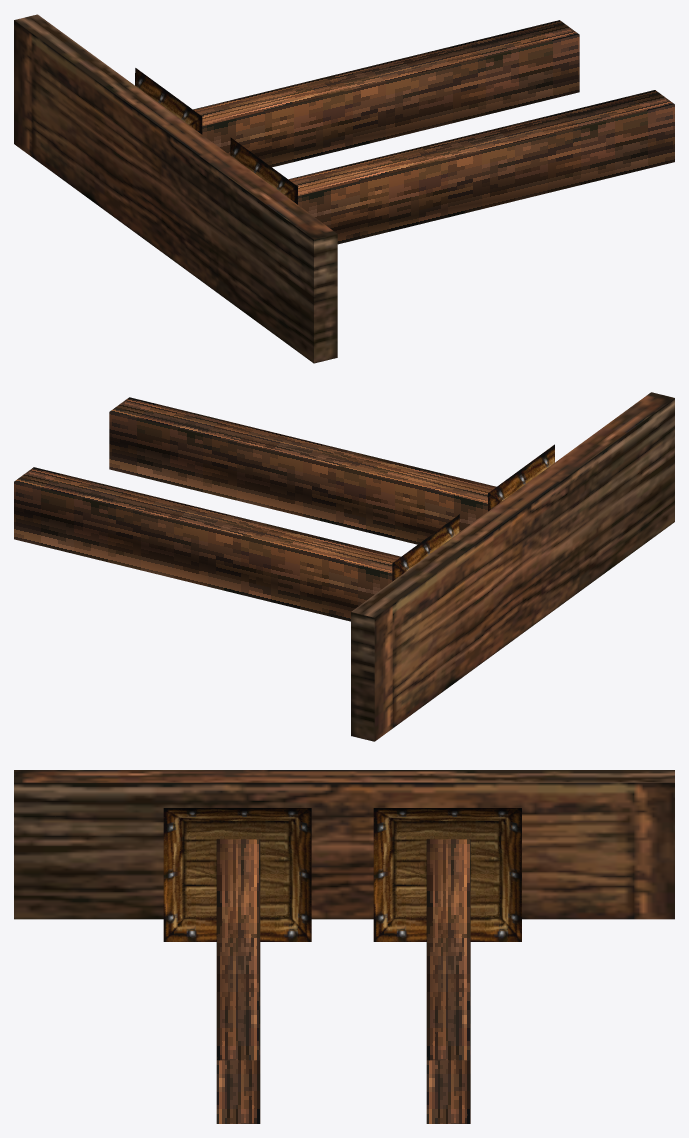
The model's file is INST_WH_PUSHPLATFORM_01.obj.
The picture shows the model from 3 angles, top to bottom: view 1: azimuth 30°, elevation 25°; view 2: azimuth 150°, elevation 25°; view 3: azimuth 270°, elevation 25°; orthographic projection. The views are drawn at different scales.
Parts seen in each view (by area): view 1: _WoodPlank47474, H3_Ports0537376; view 2: _WoodPlank47474, H3_Ports0537376; view 3: _WoodPlank47474, H3_Ports0537376.
Boxes of the visible parts, x1,y1,x2,y2 form: _WoodPlank47474: (14, 14, 674, 363); H3_Ports0537376: (135, 68, 297, 204); _WoodPlank47474: (14, 392, 674, 741); H3_Ports0537376: (392, 444, 554, 581); _WoodPlank47474: (14, 770, 674, 1123); H3_Ports0537376: (163, 808, 521, 941).
Size of the model in its own units: 210 by 58.05 by 241.
